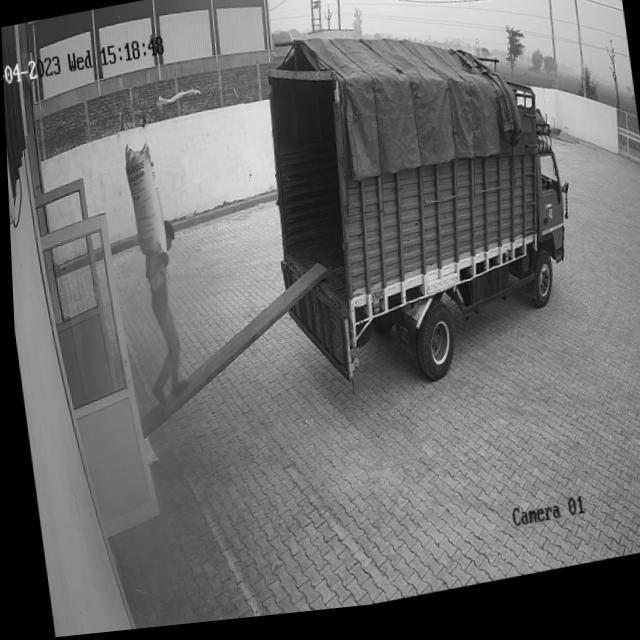sack: (121, 140, 166, 261)
